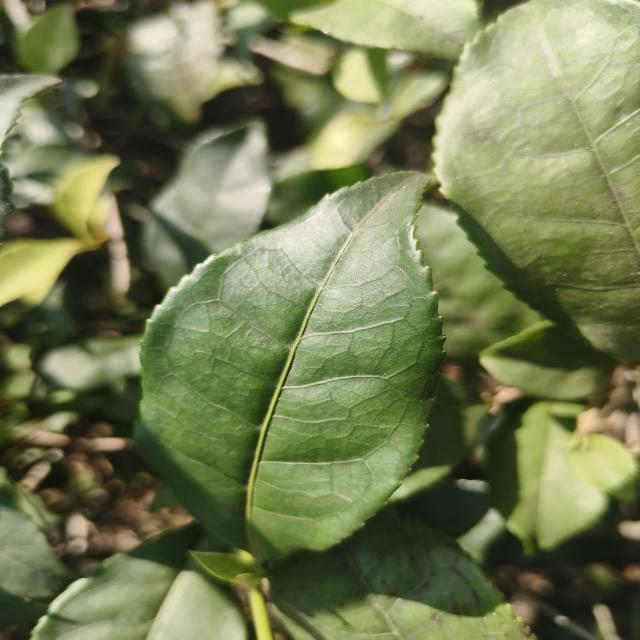Leaf: (135, 172, 443, 562), (434, 0, 640, 363), (270, 508, 533, 640), (32, 525, 246, 640), (143, 120, 271, 286), (416, 203, 538, 358), (486, 401, 607, 553), (128, 0, 224, 122), (290, 0, 479, 61), (479, 321, 617, 401), (0, 505, 73, 600), (52, 155, 120, 240), (39, 334, 142, 390), (0, 238, 82, 306), (568, 431, 637, 499), (16, 4, 79, 74), (333, 47, 387, 104), (190, 551, 266, 584)
